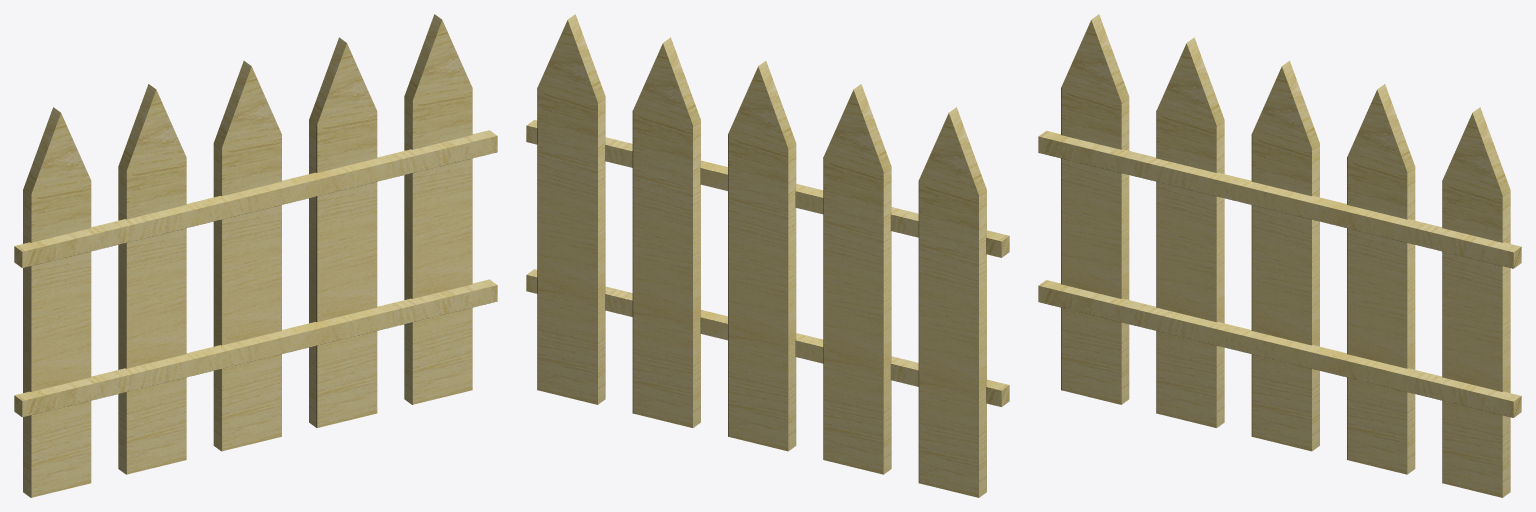
Rendered from Fence_01.FBX.
The picture shows the model from 3 angles, left to right: view 1: azimuth 30°, elevation 25°; view 2: azimuth 150°, elevation 25°; view 3: azimuth 330°, elevation 25°; orthographic projection.
Parts seen in each view (by area): view 1: Fence_back, Fence_002, Fence_005, Fence_001, Fence_003, Fence_004; view 2: Fence_004, Fence_002, Fence_003, Fence_005, Fence_001, Fence_back; view 3: Fence_back, Fence_003, Fence_004, Fence_001, Fence_005, Fence_002.
Boxes of the visible parts, box(x1,y1,x2,y2) form: Fence_back: box(14, 130, 497, 417); Fence_002: box(118, 84, 186, 474); Fence_005: box(404, 14, 472, 404); Fence_001: box(23, 107, 91, 497); Fence_003: box(213, 61, 281, 451); Fence_004: box(309, 37, 377, 427); Fence_004: box(632, 37, 700, 427); Fence_002: box(823, 84, 891, 474); Fence_003: box(728, 61, 796, 451); Fence_005: box(537, 14, 605, 404); Fence_001: box(918, 107, 986, 497); Fence_back: box(526, 120, 1009, 406); Fence_back: box(1038, 130, 1521, 417); Fence_003: box(1251, 60, 1319, 451); Fence_004: box(1347, 84, 1415, 474); Fence_001: box(1061, 14, 1129, 404); Fence_005: box(1442, 107, 1510, 497); Fence_002: box(1156, 37, 1224, 427).
Size of the model in its own units: 14.96 by 11.37 by 0.8119.
